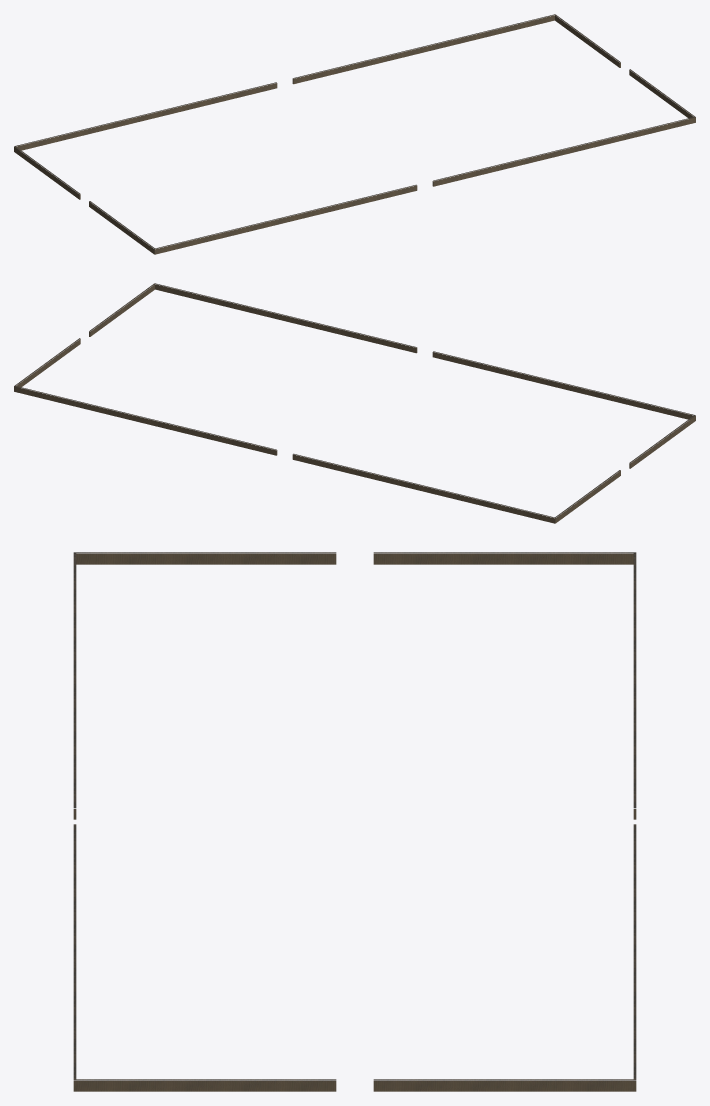
File: washington_square_1871__square_1860_1871.glb
The picture shows the model from 3 angles, top to bottom: view 1: azimuth 30°, elevation 25°; view 2: azimuth 150°, elevation 25°; view 3: azimuth 270°, elevation 25°; orthographic projection. The views are drawn at different scales.
Visible parts, largest first — view 1: washington_square_1871__square_1860_1871; view 2: washington_square_1871__square_1860_1871; view 3: washington_square_1871__square_1860_1871.
Part boxes in pixels (x1=…): washington_square_1871__square_1860_1871: x1=14, y1=14, x2=695, y2=254; washington_square_1871__square_1860_1871: x1=14, y1=283, x2=695, y2=523; washington_square_1871__square_1860_1871: x1=73, y1=552, x2=636, y2=1091.
Size of the model in its own units: 100 by 0.99 by 45.
2 materials, 2 textured.
